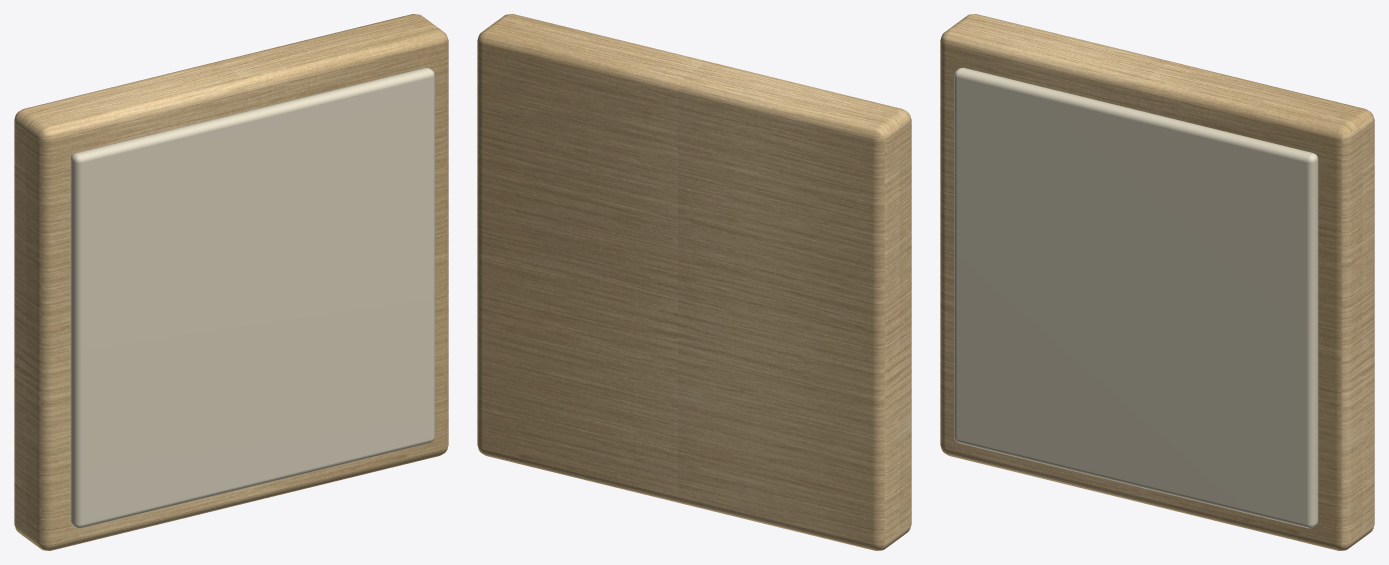
Rendered from sign.glb.
3 renders of one model, left to right at view 1: azimuth 30°, elevation 25°; view 2: azimuth 150°, elevation 25°; view 3: azimuth 330°, elevation 25°, orthographic.
Parts seen in each view (by area): view 1: sign; view 2: sign; view 3: sign.
Boxes of the visible parts, x1=… form: sign: x1=14, y1=14, x2=448, y2=550; sign: x1=477, y1=14, x2=911, y2=550; sign: x1=940, y1=14, x2=1374, y2=550.
Bounding box in the file's own units: 1 × 0.99 × 0.1775.
2 materials, 1 textured.
